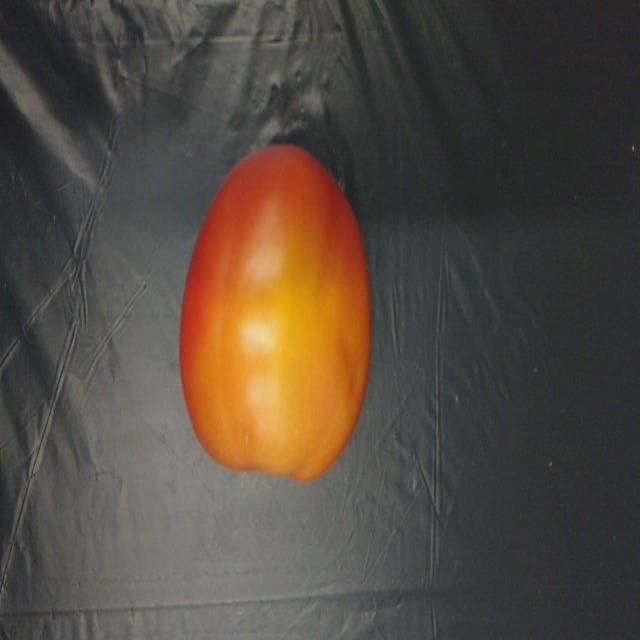sari: (162, 126, 368, 490)
